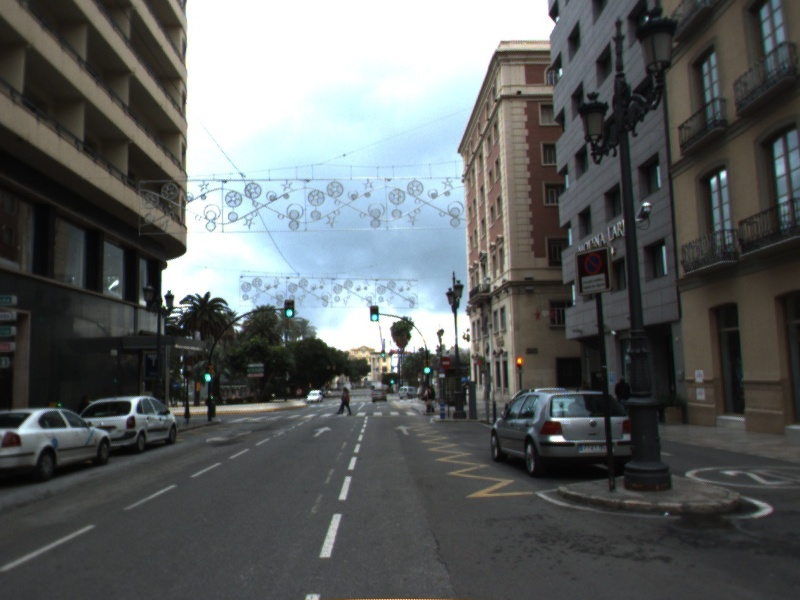STRAIGHT: (311, 424, 334, 439), (392, 423, 414, 437)
STRAIGHT_LEFT: (204, 429, 254, 445)
